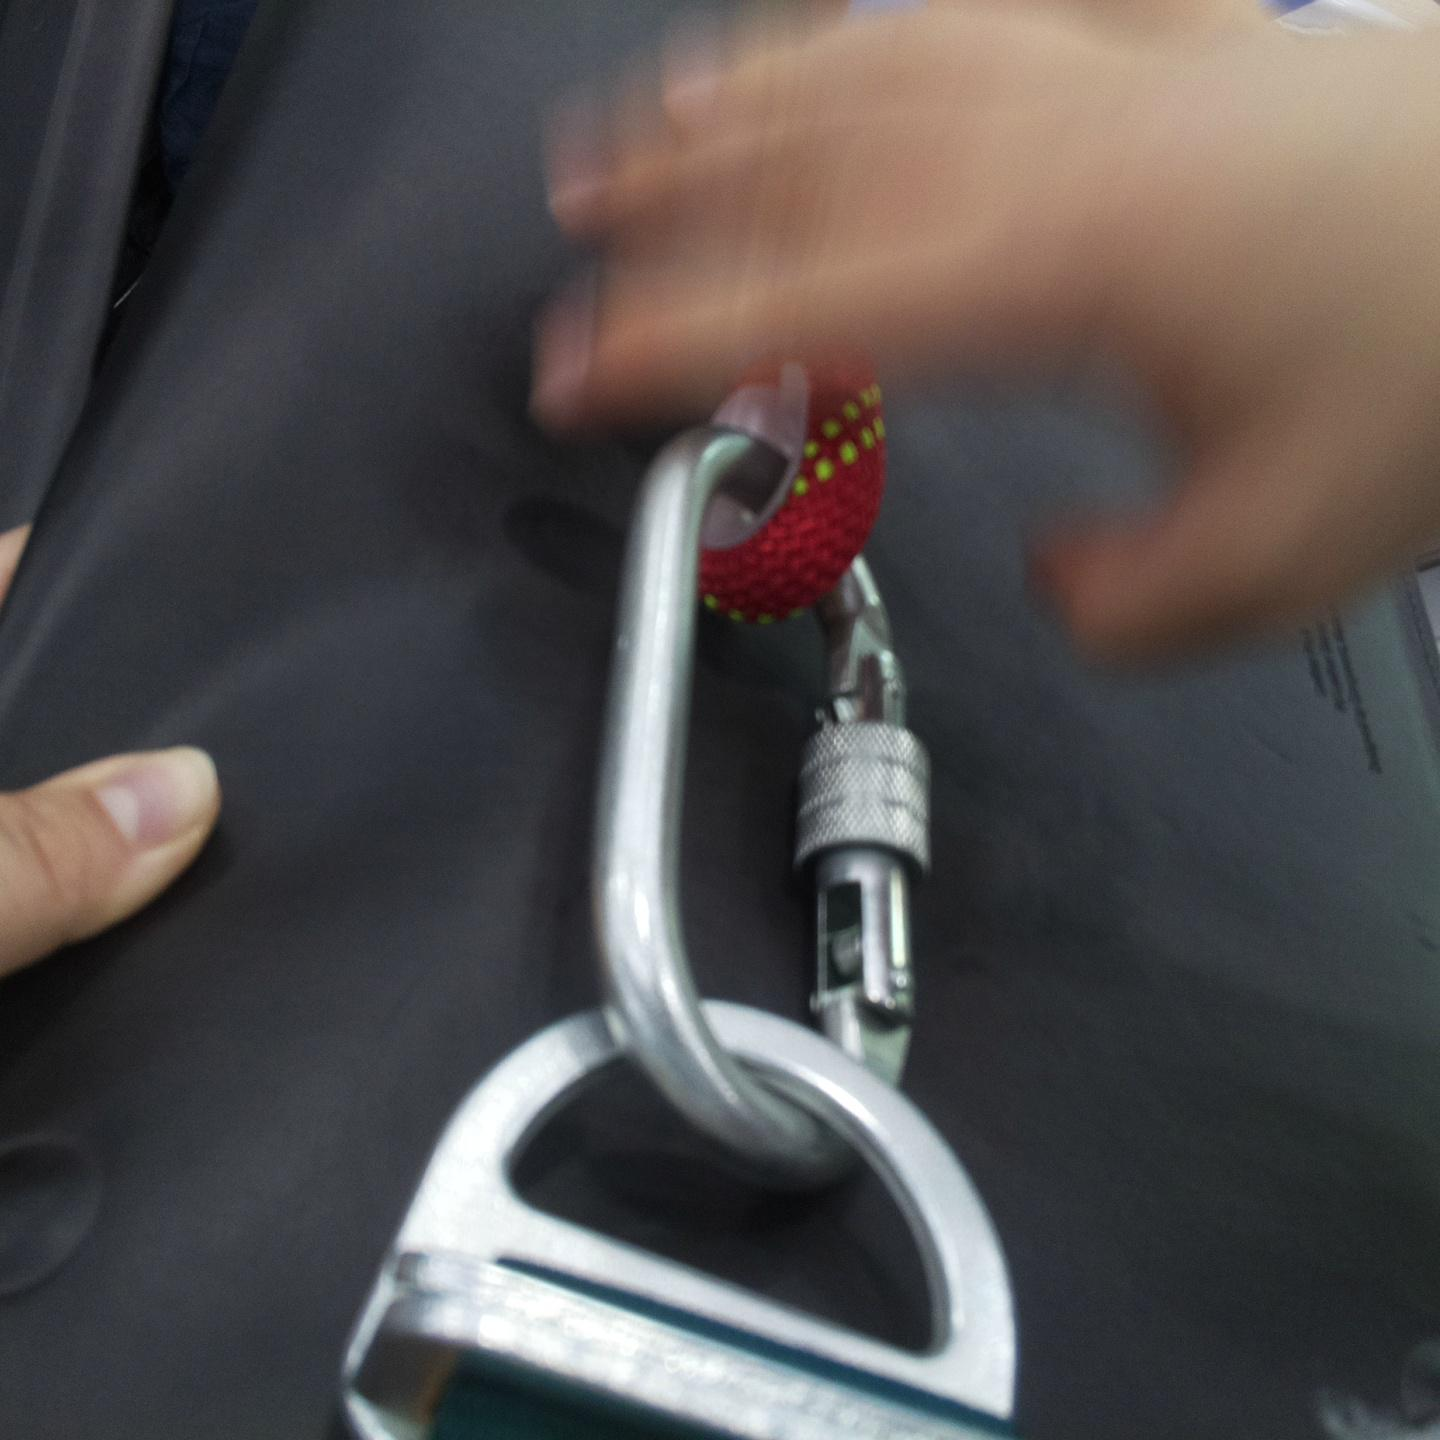SUCCESS: (463, 624, 1040, 1402)
